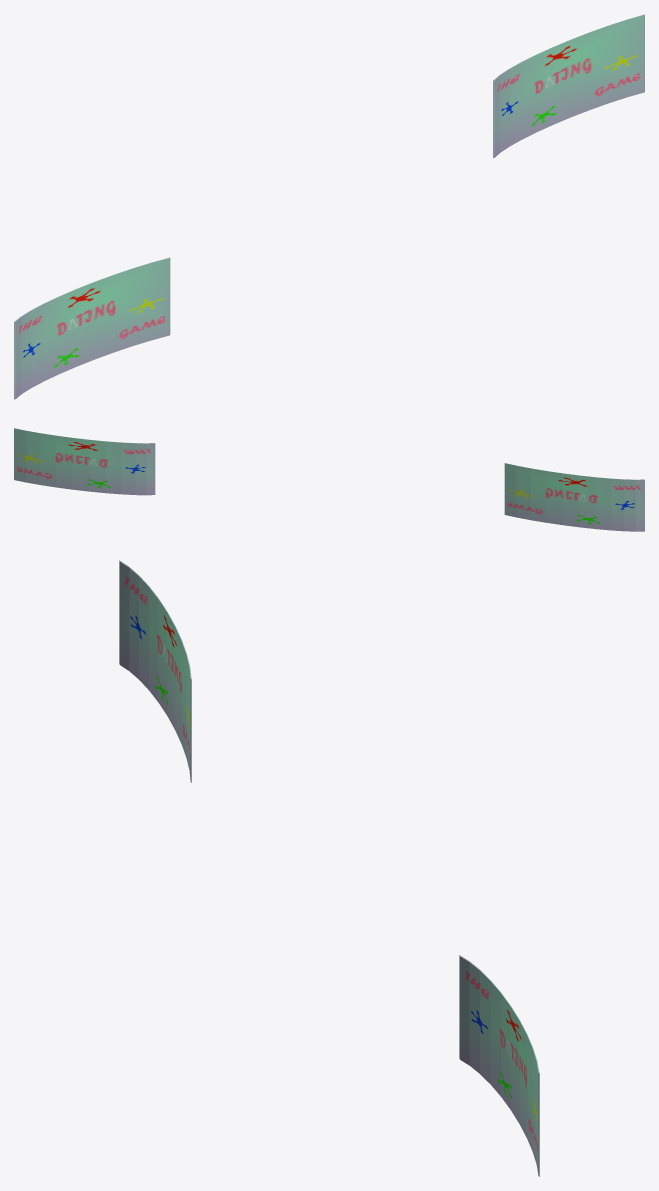
Rendered from signs.dae.
3 views of the same model, one above another, from view 1: azimuth 30°, elevation 25°; view 2: azimuth 150°, elevation 25°; view 3: azimuth 270°, elevation 25° (orthographic). The views are drawn at different scales.
Visible parts, largest first — view 1: Cylinder_001, Cylinder; view 2: Cylinder, Cylinder_001; view 3: Cylinder, Cylinder_001.
Boxes of the visible parts, x1,y1,x2,y2 form: Cylinder_001: [14, 257, 170, 399]; Cylinder: [493, 14, 644, 158]; Cylinder: [14, 428, 155, 495]; Cylinder_001: [504, 463, 644, 531]; Cylinder: [459, 955, 539, 1176]; Cylinder_001: [119, 560, 191, 782].
Bounding box in the file's own units: 37.37 × 12.93 × 3.52.
Materials: 1 (1 with a texture image).
